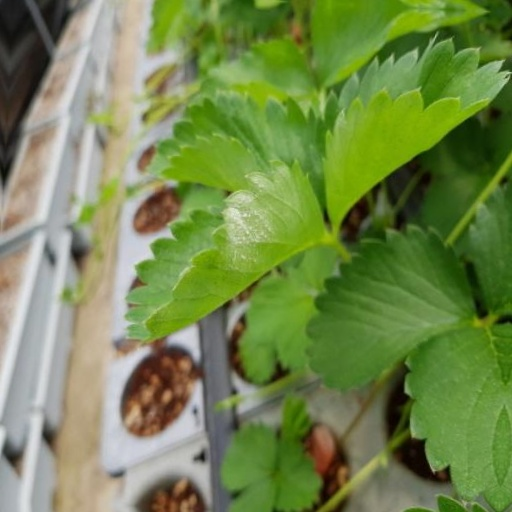Powdery Mildew Leaf: (187, 154, 387, 353)
